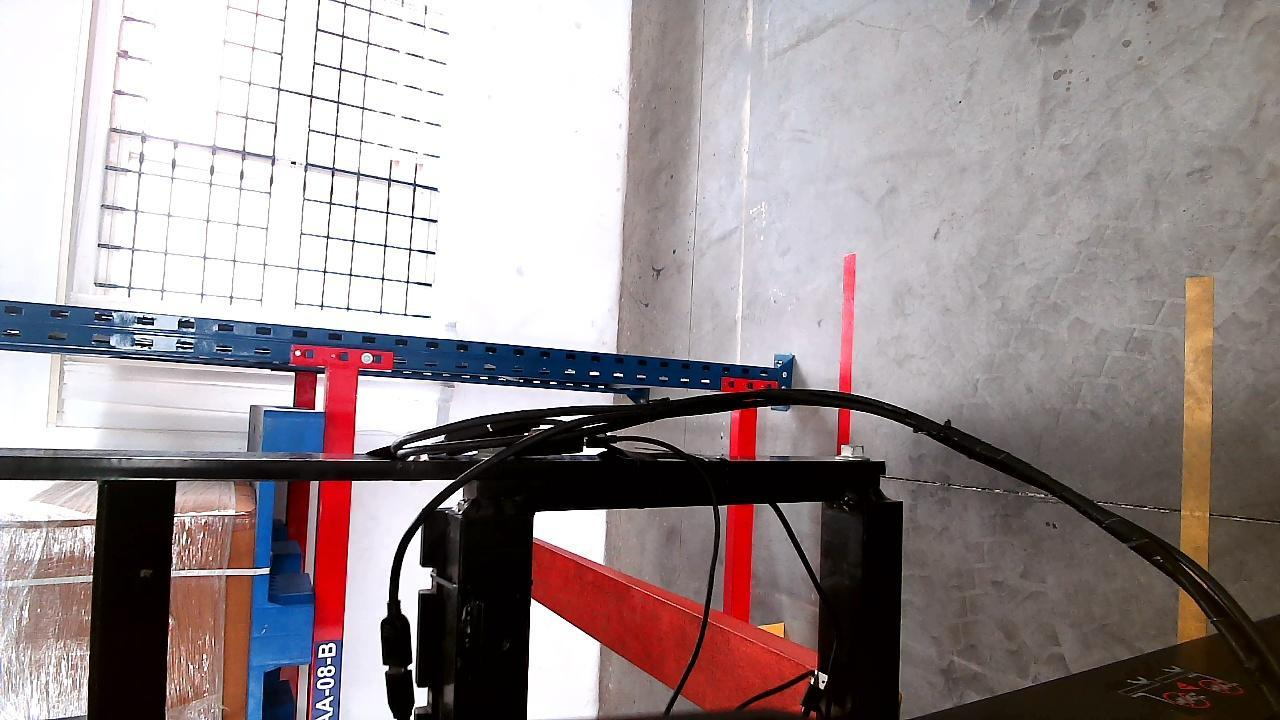red_line: (838, 253, 858, 447)
yellow_line: (1181, 263, 1215, 633)
